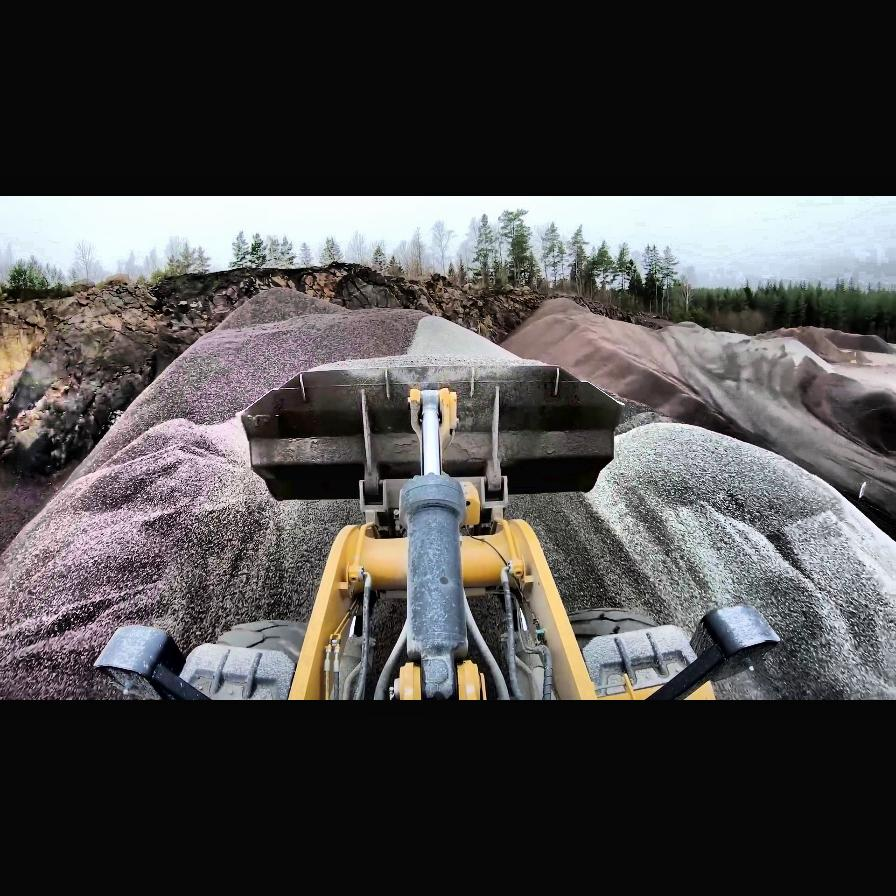anchor: (407, 386, 458, 468)
pile of gravel: (60, 287, 544, 493), (499, 298, 745, 436)
